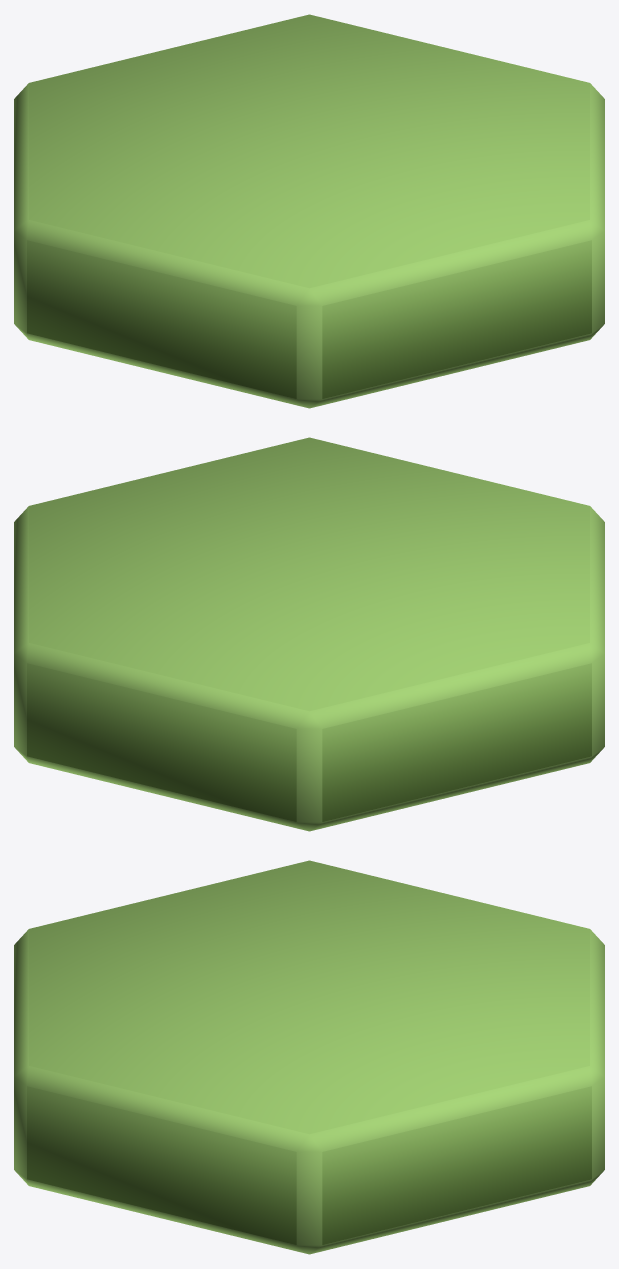
Rendered from bavel_spot_dark_green.fbx.
The picture shows the model from 3 angles, top to bottom: view 1: azimuth 30°, elevation 25°; view 2: azimuth 150°, elevation 25°; view 3: azimuth 270°, elevation 25°; orthographic projection.
Parts seen in each view (by area): view 1: bavel_spot_dark_green; view 2: bavel_spot_dark_green; view 3: bavel_spot_dark_green.
Part boxes in pixels (x1,y1,x2,y2): bavel_spot_dark_green: (14,14,604,408); bavel_spot_dark_green: (14,437,604,831); bavel_spot_dark_green: (14,860,604,1254).
Bounding box in the file's own units: 358 × 71.12 × 317.
Materials: 1 (1 with a texture image).
